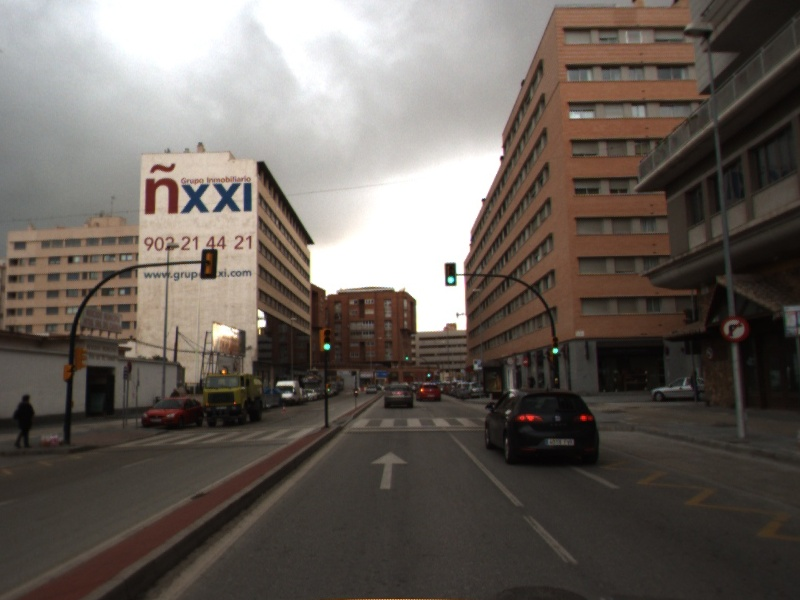STRAIGHT: (368, 449, 412, 491)
